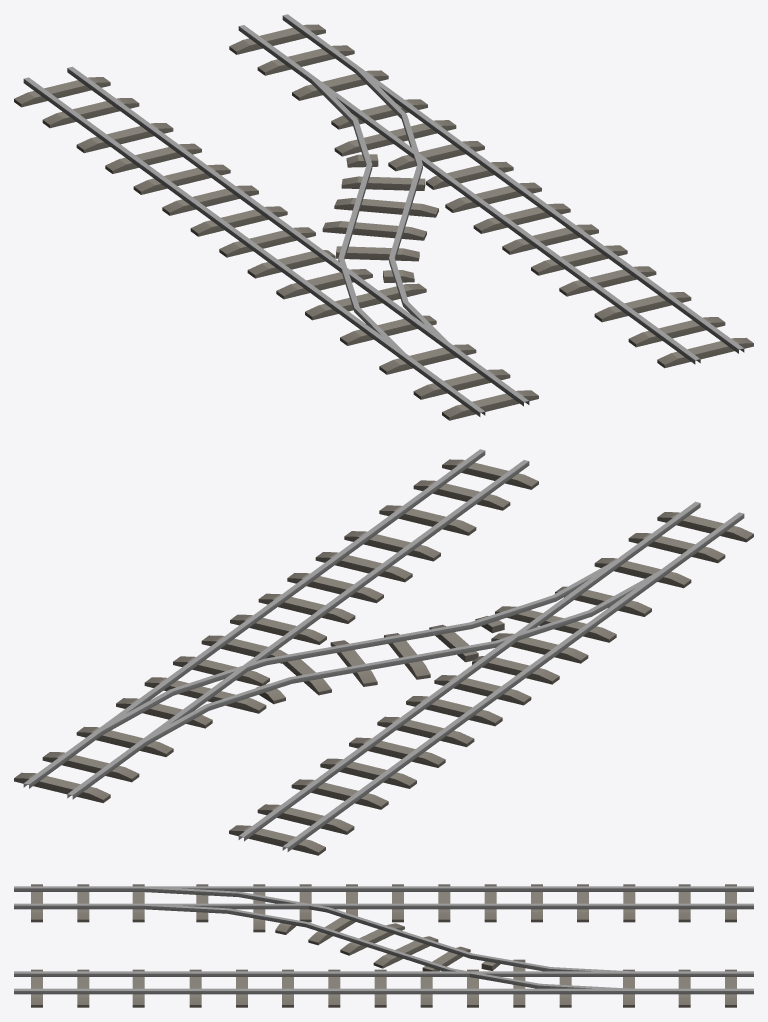
Rendered from Railway_Line_N_B.fbx.
The picture shows the model from 3 angles, top to bottom: view 1: azimuth 30°, elevation 25°; view 2: azimuth 150°, elevation 25°; view 3: azimuth 270°, elevation 25°; orthographic projection. The views are drawn at different scales.
Visible parts, largest first — view 1: Railway_Line_N_B; view 2: Railway_Line_N_B; view 3: Railway_Line_N_B.
Boxes of the visible parts, <box> form: Railway_Line_N_B: <box>14,14,753,420</box>; Railway_Line_N_B: <box>14,449,753,855</box>; Railway_Line_N_B: <box>14,884,753,1007</box>.
Bounding box in the file's own units: 1540 × 51.82 × 4000.
